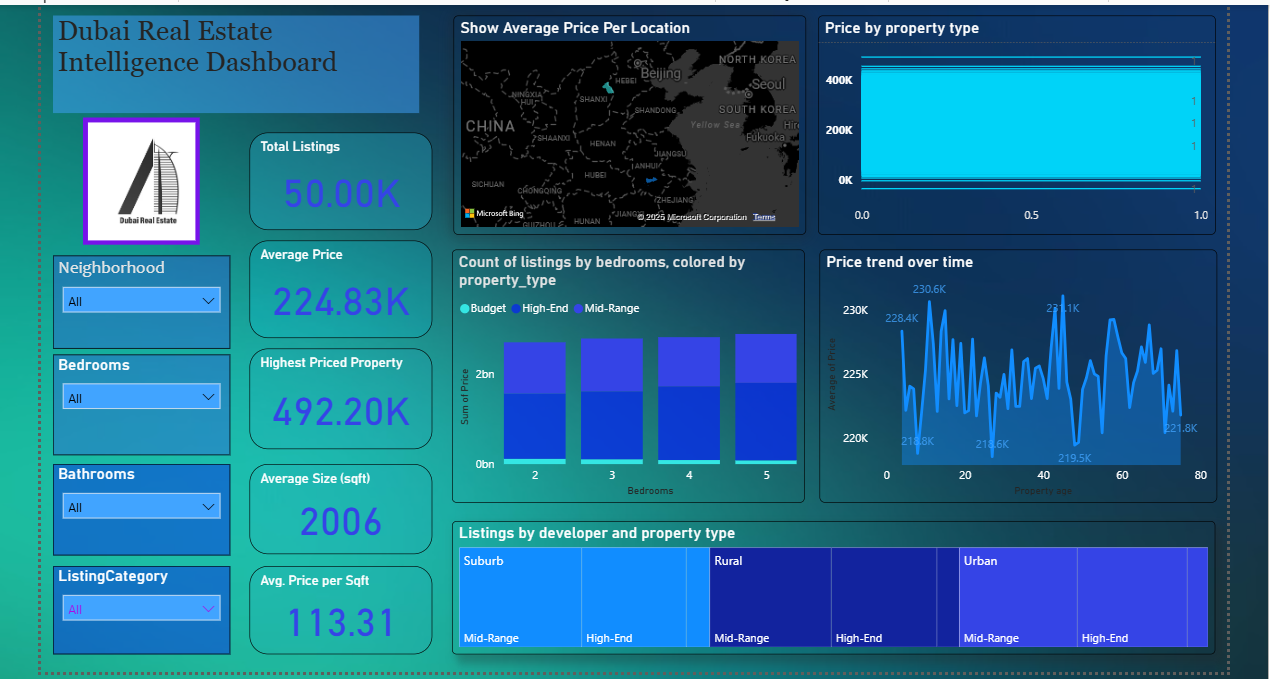

Layout of this report page (visuals, bound fields, positions):
{"tool":"powerbi","page":{"name":"Page 1","canvas":[1280,720],"ordinal":0},"visuals":[{"type":"card","title":"Total Listings","fields":{"Values":["CountNonNull(housing_price_dataset.Price Per Sqft)"]},"box":[225.1,137.6,197.5,105.2],"z":0},{"type":"card","title":"Average Price","fields":{"Values":["Avg(housing_price_dataset.Price)"]},"box":[225.1,254.2,197.5,105.2],"z":1000},{"type":"card","title":"Average Size (sqft)","fields":{"Values":["Avg(housing_price_dataset.SquareFeet)"]},"box":[225.1,495.5,197.5,97.2],"z":2000},{"type":"card","title":"Highest Priced Property","fields":{"Values":["Max(housing_price_dataset.Price)"]},"box":[225.1,370.8,197.5,108.5],"z":3000},{"type":"card","title":"Avg. Price per Sqft","fields":{"Values":["Avg(housing_price_dataset.Price Per Sqft)"]},"box":[225.1,605.6,197.5,95.5],"z":4000},{"type":"clusteredBarChart","title":"Price by property type","fields":{"Y":["CountNonNull(housing_price_dataset.listing categories)"],"Category":["housing_price_dataset.Price"]},"box":[838.8,11.3,429.1,236.4],"z":5000},{"type":"columnChart","title":"Count of listings by bedrooms, colored by property_type","fields":{"Category":["housing_price_dataset.Bedrooms"],"Y":["Sum(housing_price_dataset.Price)"],"Series":["housing_price_dataset.listing categories"]},"box":[443.7,263.9,380.5,273.6],"z":6000},{"type":"lineChart","title":"Price trend over time ","fields":{"Category":["housing_price_dataset.Property age"],"Y":["Avg(housing_price_dataset.Price)"]},"box":[840.4,263.9,429.1,273.6],"z":7000},{"type":"treemap","title":"Listings by developer and property type","fields":{"Group":["housing_price_dataset.Neighborhood"],"Details":["housing_price_dataset.listing categories"],"Values":["CountNonNull(housing_price_dataset.Price)"]},"box":[443.7,557,824.2,144.1],"z":8000},{"type":"slicer","title":"Bedrooms","fields":{"Values":["housing_price_dataset.Bedrooms","housing_price_dataset.Price"]},"box":[13,377.3,191.1,108.5],"z":9000},{"type":"slicer","title":"Neighborhood","fields":{"Values":["housing_price_dataset.Neighborhood"]},"box":[13,270.4,191.1,100.4],"z":10000},{"type":"slicer","title":"Bathrooms","fields":{"Values":["housing_price_dataset.Bathrooms"]},"box":[13,495.5,191.1,98.8],"z":11000},{"type":"filledMap","title":"Show Average Price Per Location","fields":{"Category":["housing_price_dataset.Neighborhood"]},"box":[445.3,11.3,380.5,236.4],"z":12000},{"type":"slicer","title":"ListingCategory","fields":{"Values":["housing_price_dataset.listing categories"]},"box":[13,605.6,191.1,95.5],"z":13000},{"type":"textbox","title":"Dubai Real Estate Intelligence Dashboard","box":[13,11.3,395.1,105.2],"z":14000},{"type":"image","box":[45.3,121.4,126.3,137.6],"z":15000}]}

Visuals, with their boxes in screenshot pixels (x1, y1, x2, y2):
"Total Listings" card: 260 126 450 227
"Average Price" card: 260 238 450 339
"Average Size (sqft)" card: 260 470 450 564
"Highest Priced Property" card: 260 350 450 455
"Avg. Price per Sqft" card: 260 576 450 668
"Price by property type" clusteredBarChart: 851 4 1264 232
"Count of listings by bedrooms, colored by property_type" columnChart: 470 247 837 511
"Price trend over time " lineChart: 852 247 1265 511
"Listings by developer and property type" treemap: 470 530 1264 668
"Bedrooms" slicer: 56 357 239 461
"Neighborhood" slicer: 56 254 239 350
"Bathrooms" slicer: 56 470 239 566
"Show Average Price Per Location" filledMap: 472 4 838 232
"ListingCategory" slicer: 56 576 239 668
"Dubai Real Estate Intelligence Dashboard" textbox: 56 4 436 106
image: 87 110 208 243
